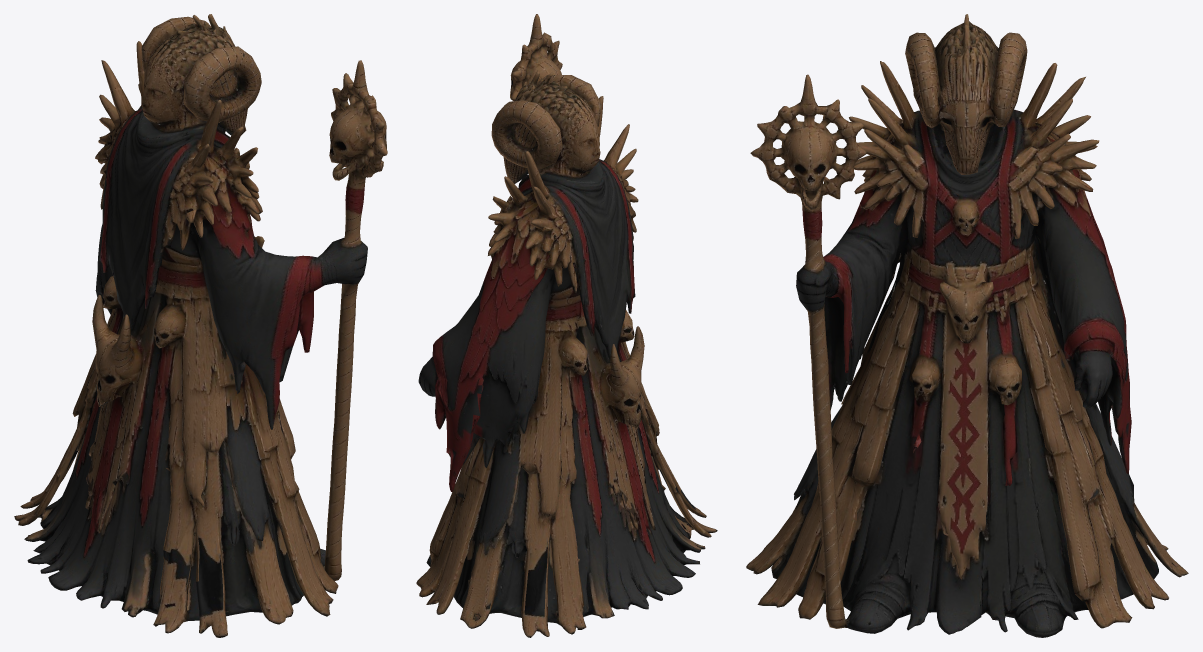
The model's file is Cult-Leader.glb.
3 renders of one model, left to right at view 1: azimuth 30°, elevation 25°; view 2: azimuth 150°, elevation 25°; view 3: azimuth 270°, elevation 25°, orthographic. The views are drawn at different scales.
Visible parts, largest first — view 1: tripo_node_3406516e-7a27-456f-910f-6aa17a1b3dd9; view 2: tripo_node_3406516e-7a27-456f-910f-6aa17a1b3dd9; view 3: tripo_node_3406516e-7a27-456f-910f-6aa17a1b3dd9.
Part boxes in pixels (x1,y1,x2,y2): tripo_node_3406516e-7a27-456f-910f-6aa17a1b3dd9: (14, 14, 387, 637); tripo_node_3406516e-7a27-456f-910f-6aa17a1b3dd9: (416, 14, 717, 637); tripo_node_3406516e-7a27-456f-910f-6aa17a1b3dd9: (746, 14, 1188, 637).
Bounding box in the file's own units: 0.4894 × 0.9723 × 0.6793.
Materials: 1 (1 with a texture image).
